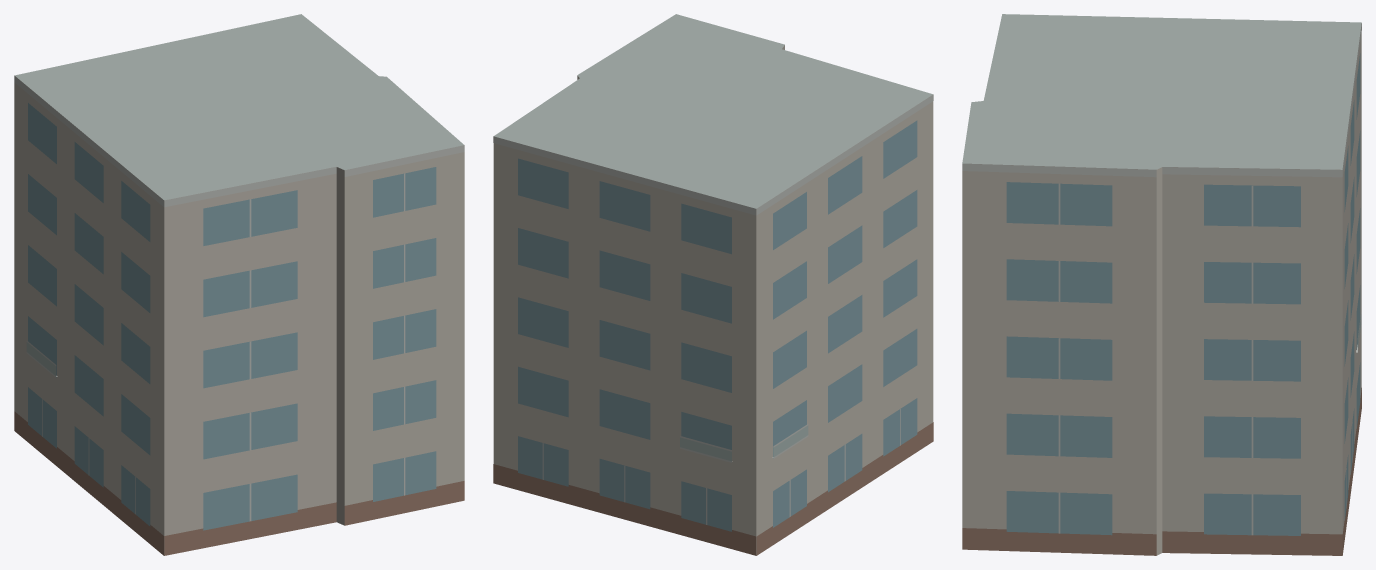
File: survey-upis-32813062.glb
3 views of the same model, side by side, from view 1: azimuth 30°, elevation 25°; view 2: azimuth 150°, elevation 25°; view 3: azimuth 270°, elevation 25° (orthographic). The views are drawn at different scales.
Parts seen in each view (by area): view 1: survey-upis-32813062.tmp; view 2: survey-upis-32813062.tmp; view 3: survey-upis-32813062.tmp.
Part boxes in pixels (x1,y1,x2,y2): survey-upis-32813062.tmp: (14,14,464,555); survey-upis-32813062.tmp: (493,14,933,555); survey-upis-32813062.tmp: (962,14,1361,555).
Bounding box in the file's own units: 10.87 × 12.55 × 11.78.
